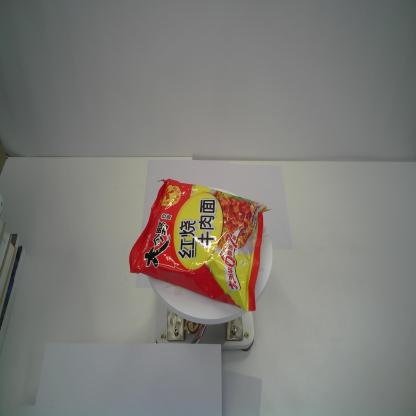Instant Noodles: (128, 177, 272, 314)
